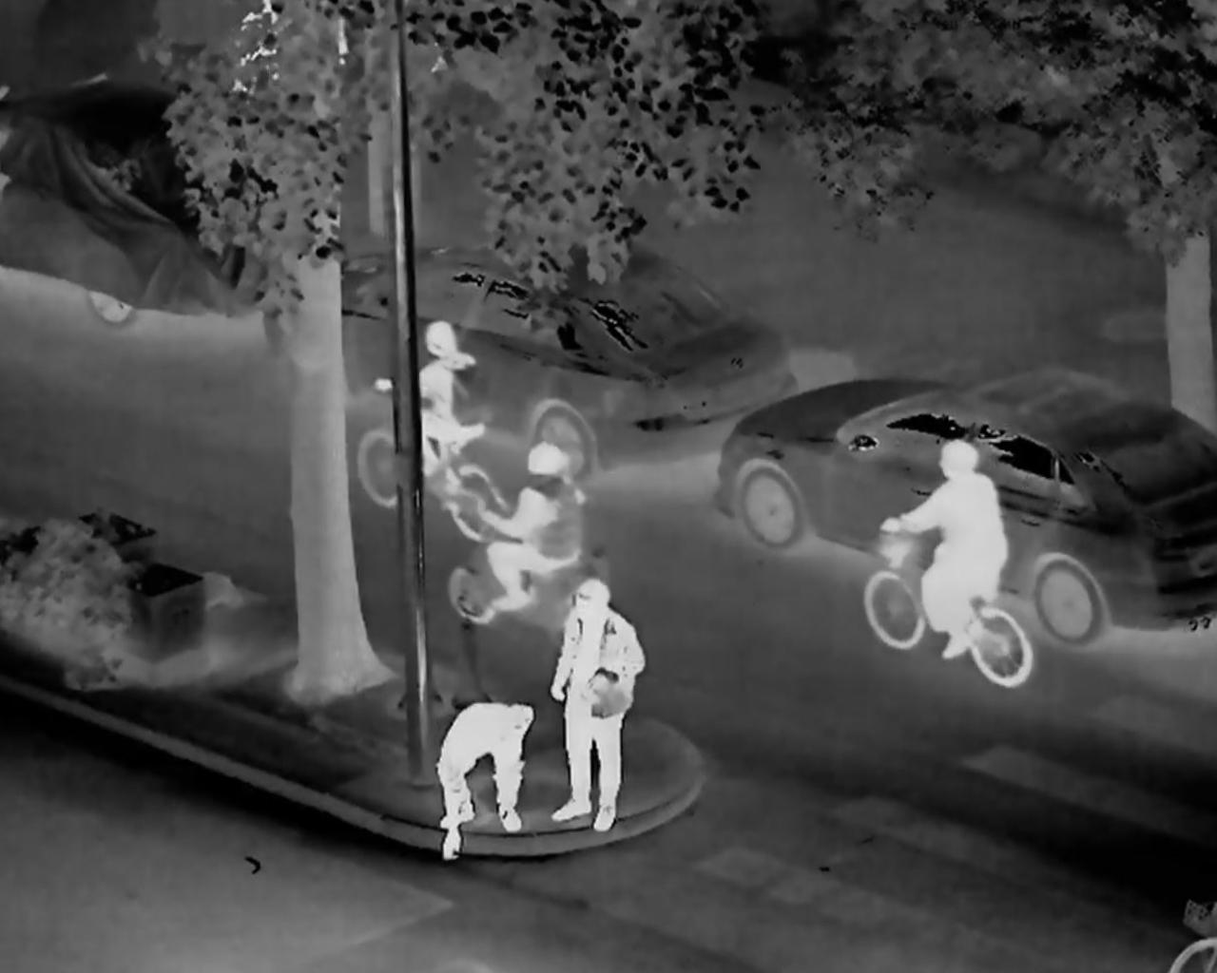person: (879, 440, 1032, 706), (553, 581, 653, 836), (418, 680, 550, 867), (477, 434, 590, 618), (371, 313, 487, 475)
